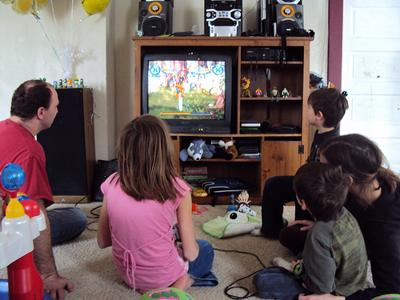person: (96, 114, 219, 293)
